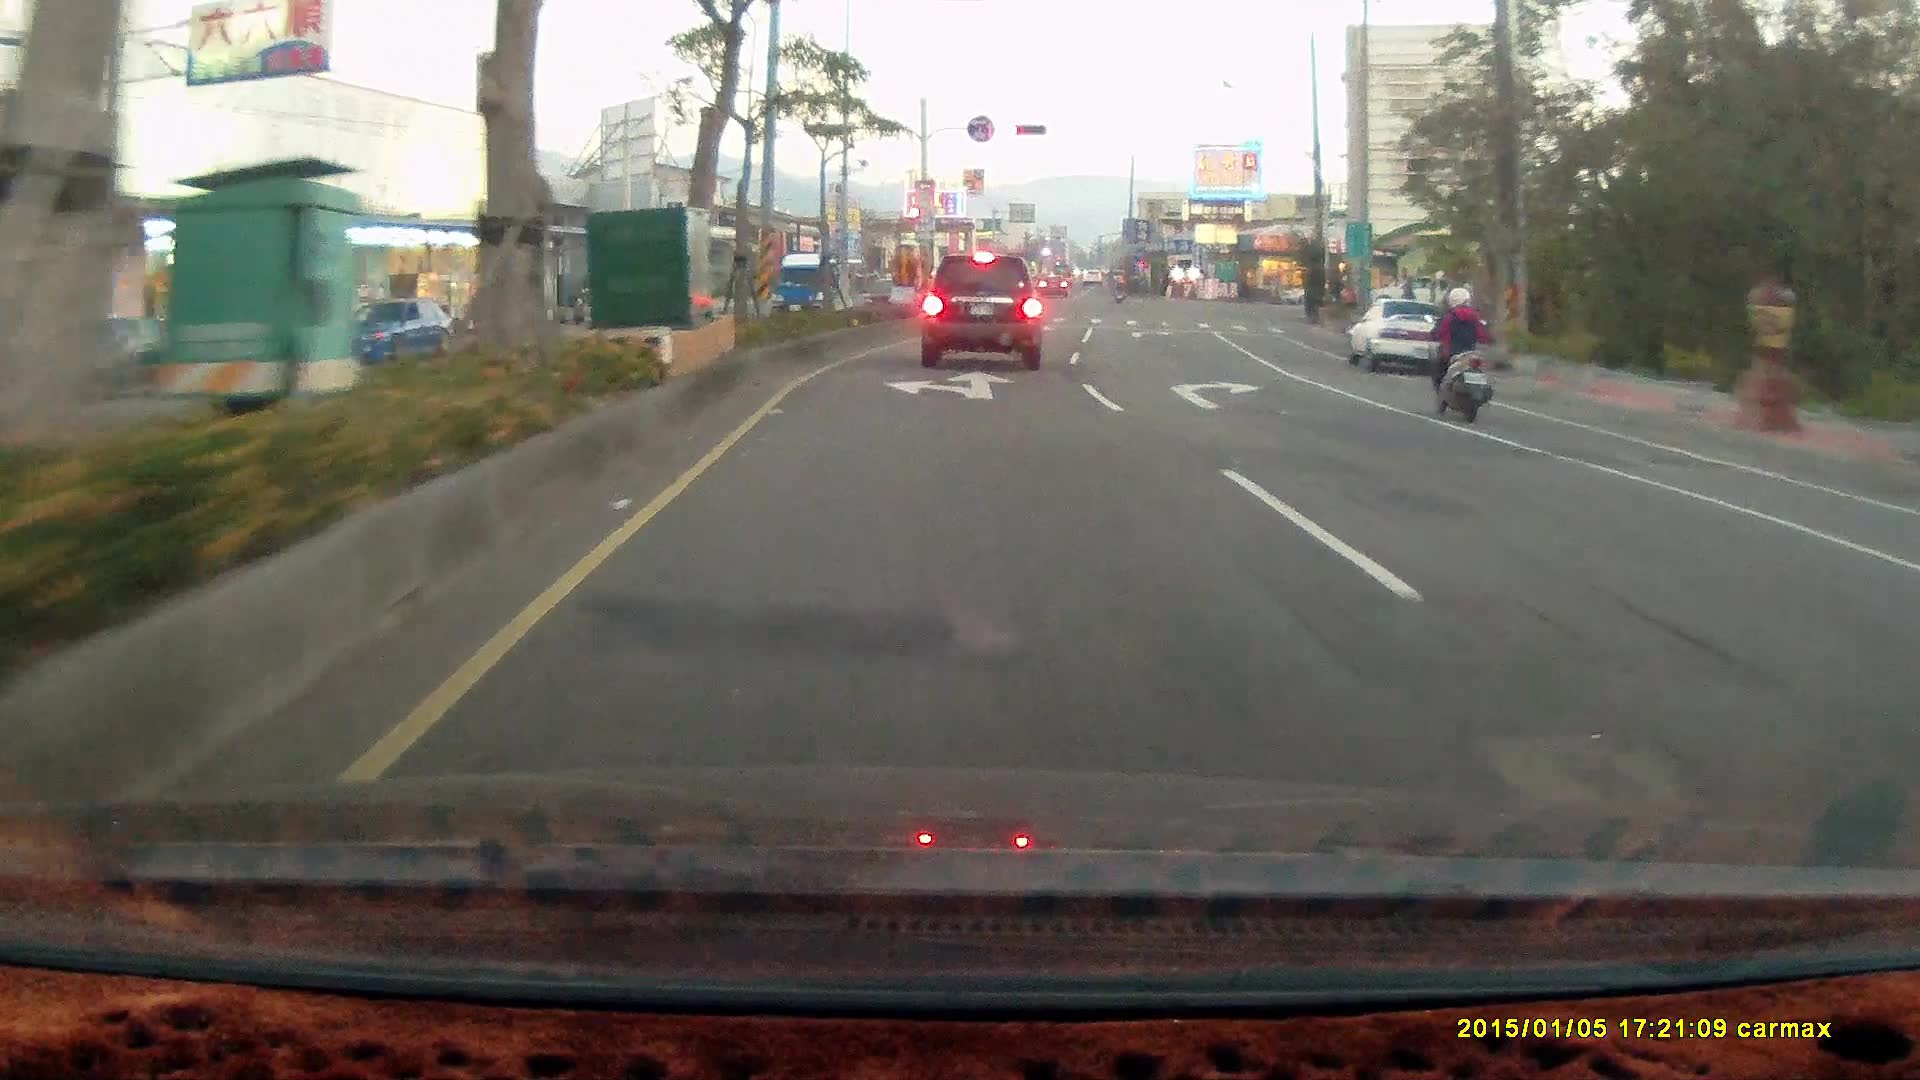rider: (1417, 280, 1496, 420)
vehicle: (919, 252, 1041, 370), (1343, 297, 1464, 377), (1348, 303, 1480, 377), (325, 298, 457, 366), (1896, 493, 1920, 836), (1883, 528, 1920, 690), (1366, 275, 1454, 313)
